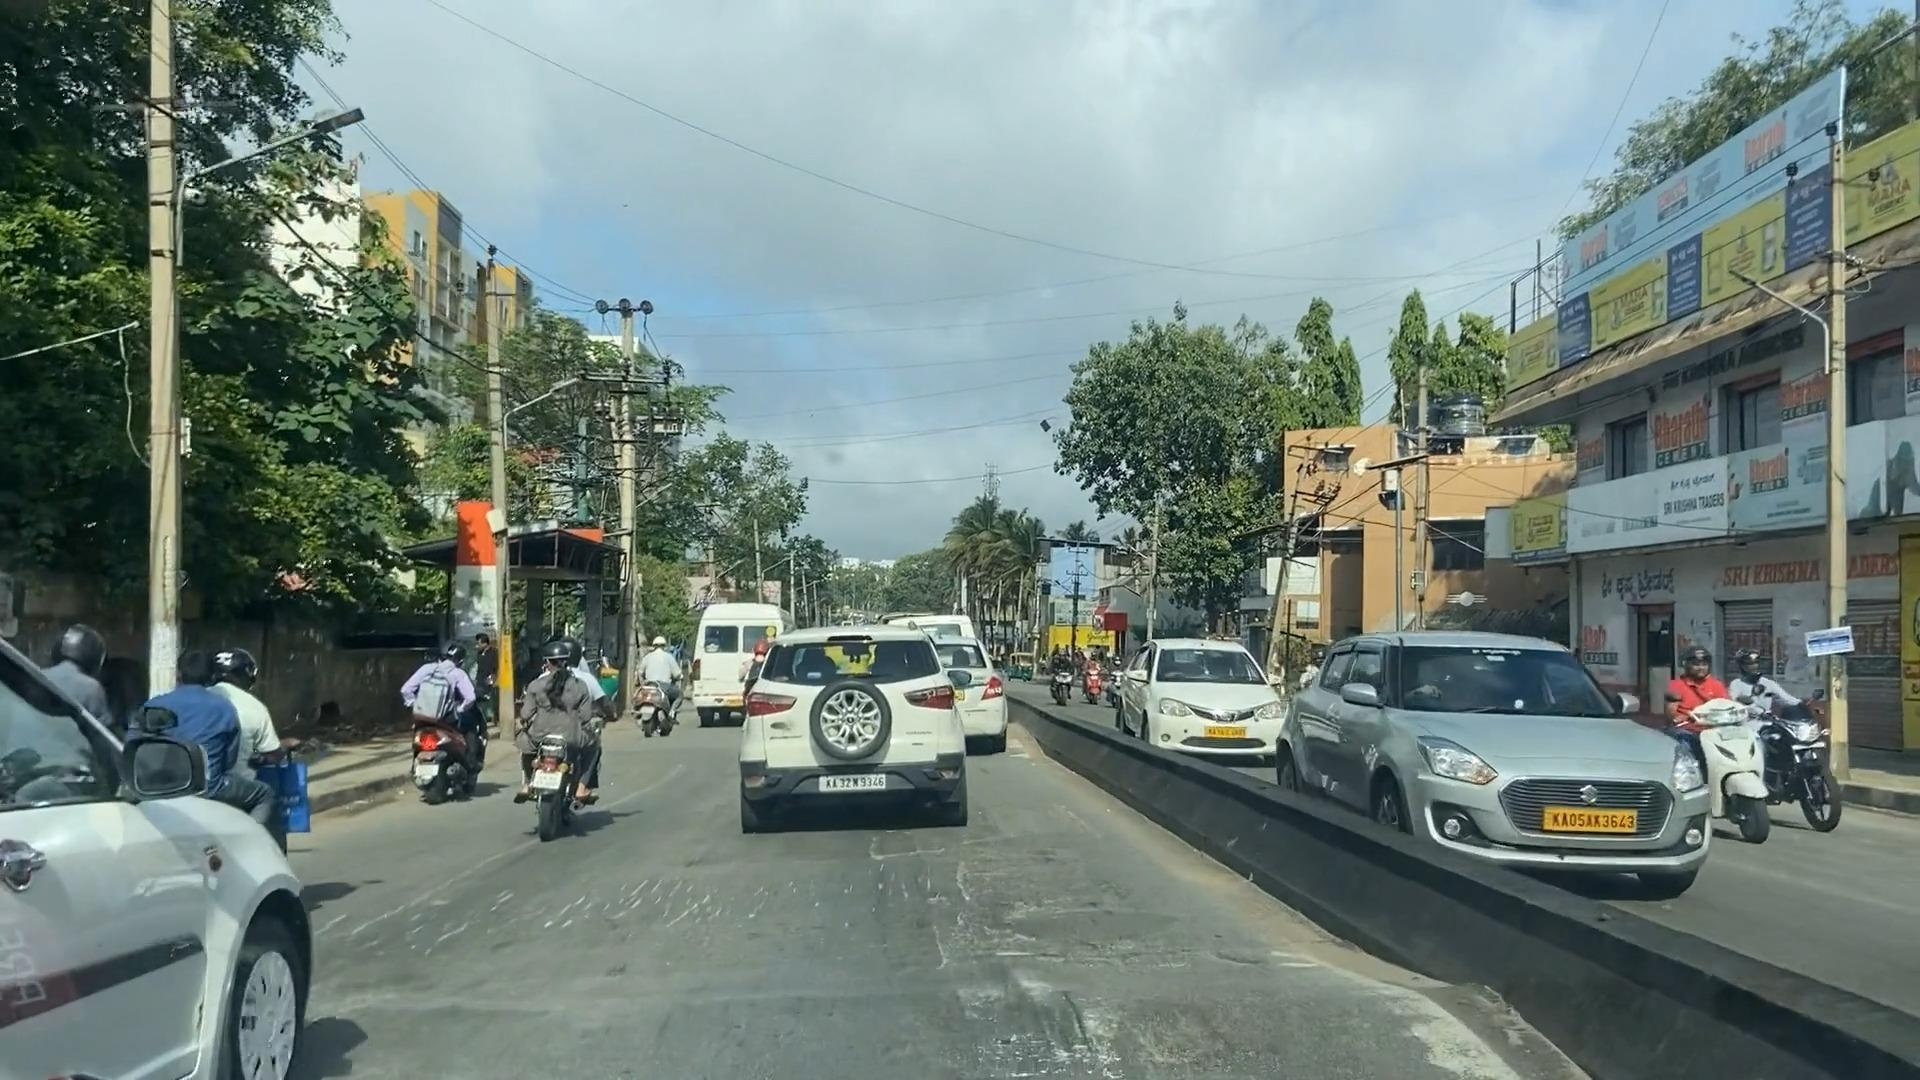LMV: (744, 630, 967, 824), (514, 636, 603, 831), (394, 645, 488, 806)
RoadDamages: (839, 824, 1092, 943)
SpeedBump: (328, 956, 1563, 1080)
UnsurfacedRoad: (359, 860, 744, 947)
